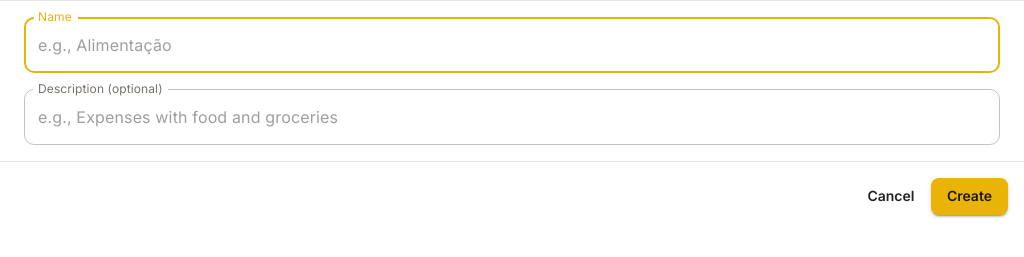
Test: CategoryForm › rejects a one-character name
Type "A" into the field labelled "Name" at (512, 45), box [24, 17, 1000, 73]
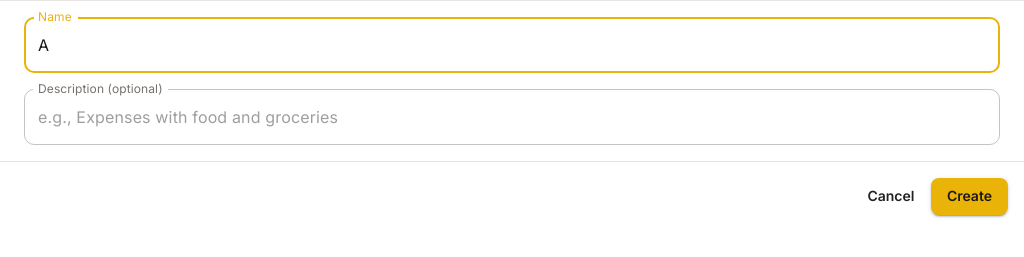
Click the button "Create" at (969, 196), box [931, 178, 1008, 214]
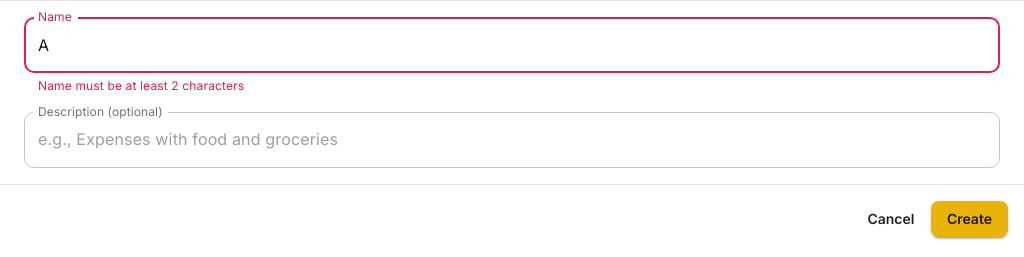
expect the text "Name must be at least 2 characters" is shown: met, box [38, 78, 244, 93]
